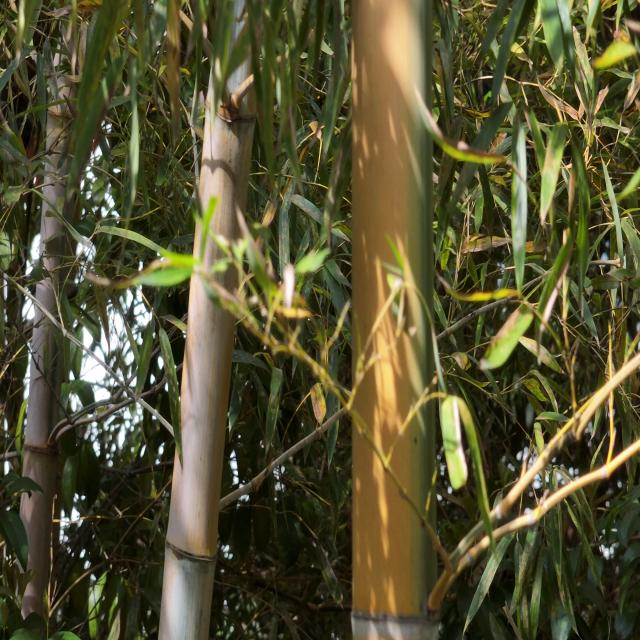Bamboo-shoots: (157, 0, 260, 640)
